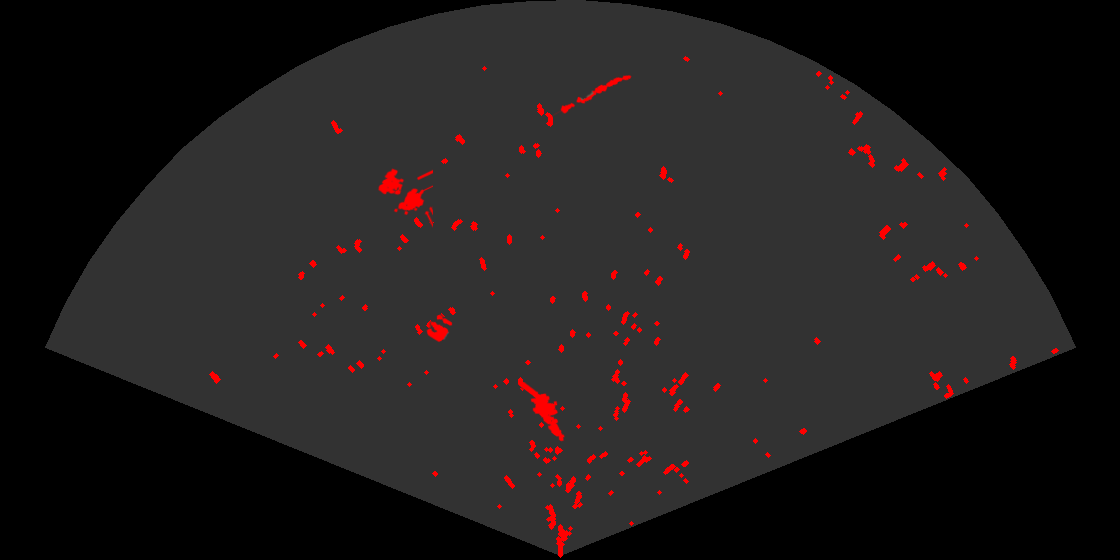ball: (425, 313, 454, 344)
cage: (376, 167, 433, 229)
chain: (552, 73, 633, 118)
frogman: (518, 382, 566, 443)
